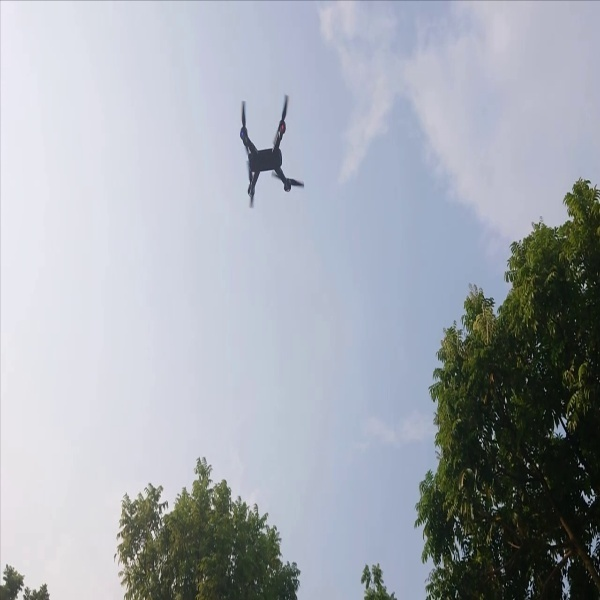drone: (228, 92, 313, 213)
